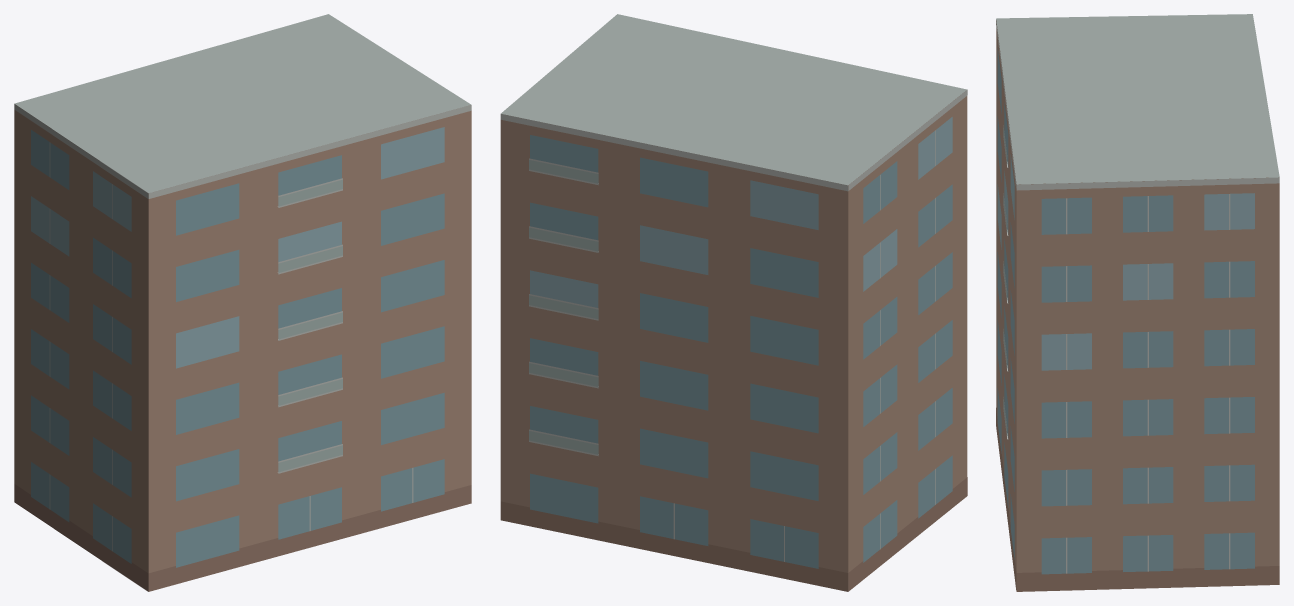
Rendered from survey-upis-32964774.glb.
3 views of the same model, side by side, from view 1: azimuth 30°, elevation 25°; view 2: azimuth 150°, elevation 25°; view 3: azimuth 270°, elevation 25° (orthographic). The views are drawn at different scales.
Visible parts, largest first — view 1: survey-upis-32964774.tmp; view 2: survey-upis-32964774.tmp; view 3: survey-upis-32964774.tmp.
Part boxes in pixels (x1=…): survey-upis-32964774.tmp: x1=14, y1=14, x2=471, y2=591; survey-upis-32964774.tmp: x1=500, y1=14, x2=967, y2=591; survey-upis-32964774.tmp: x1=996, y1=14, x2=1279, y2=591.
Size of the model in its own units: 14.91 by 16.6 by 10.49.
